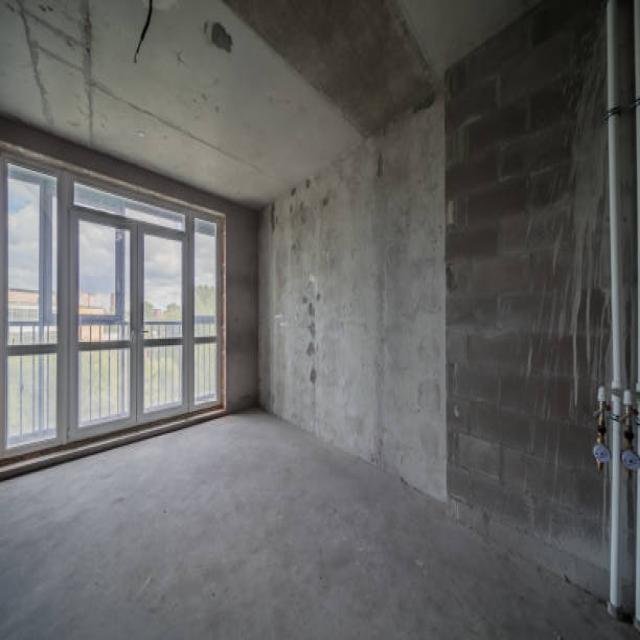floor: (0, 406, 640, 640)
wall: (258, 0, 613, 604), (0, 114, 258, 412), (613, 0, 636, 397)
